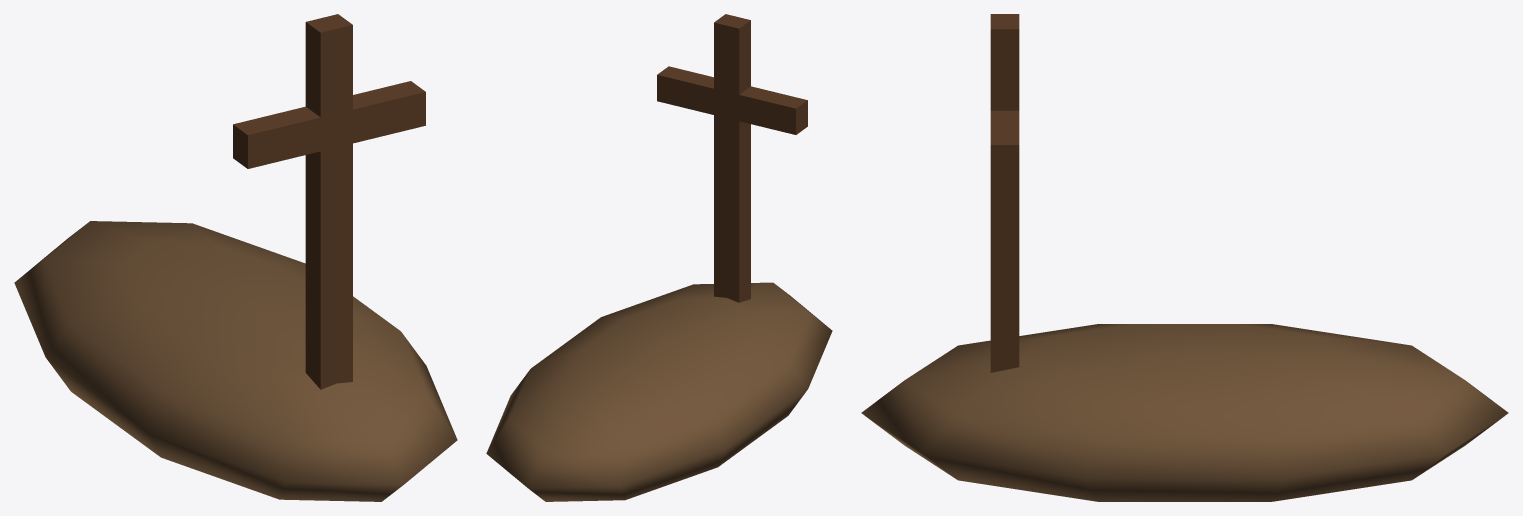
File: prop_nisan_c.glb
The picture shows the model from 3 angles, left to right: view 1: azimuth 30°, elevation 25°; view 2: azimuth 150°, elevation 25°; view 3: azimuth 270°, elevation 25°; orthographic projection. The views are drawn at different scales.
Parts seen in each view (by area): view 1: nisan_c; view 2: nisan_c; view 3: nisan_c.
Part boxes in pixels (x1,y1,x2,y2): nisan_c: (14, 14, 457, 501); nisan_c: (486, 14, 832, 501); nisan_c: (861, 14, 1508, 501).
Bounding box in the file's own units: 0.856 × 1.4 × 1.8.
